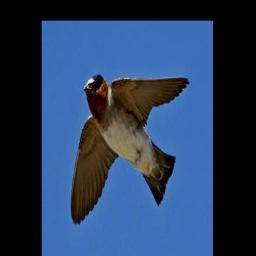Swallow: (69, 73, 191, 227)
